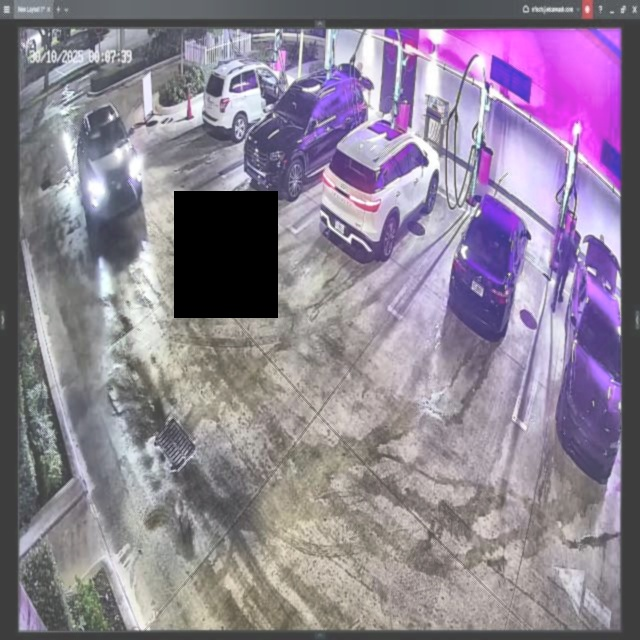Car: (319, 116, 440, 258), (244, 71, 364, 197), (450, 195, 530, 337), (76, 103, 141, 222)
